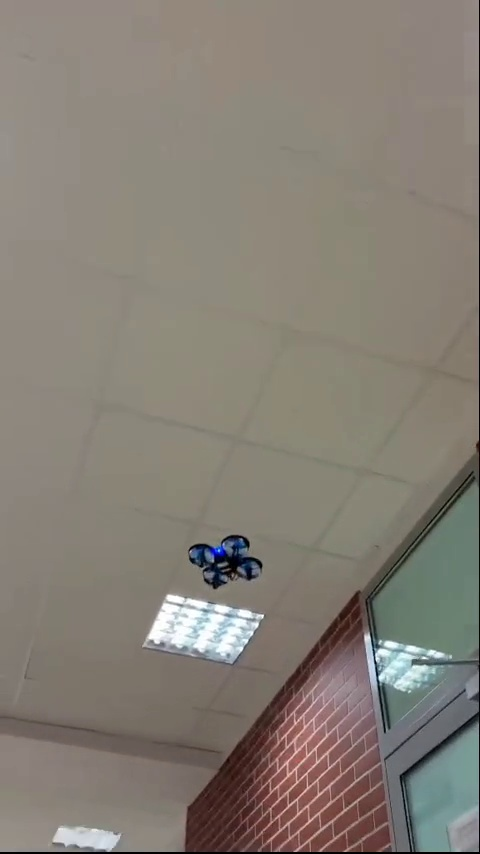drone: (191, 532, 259, 592)
